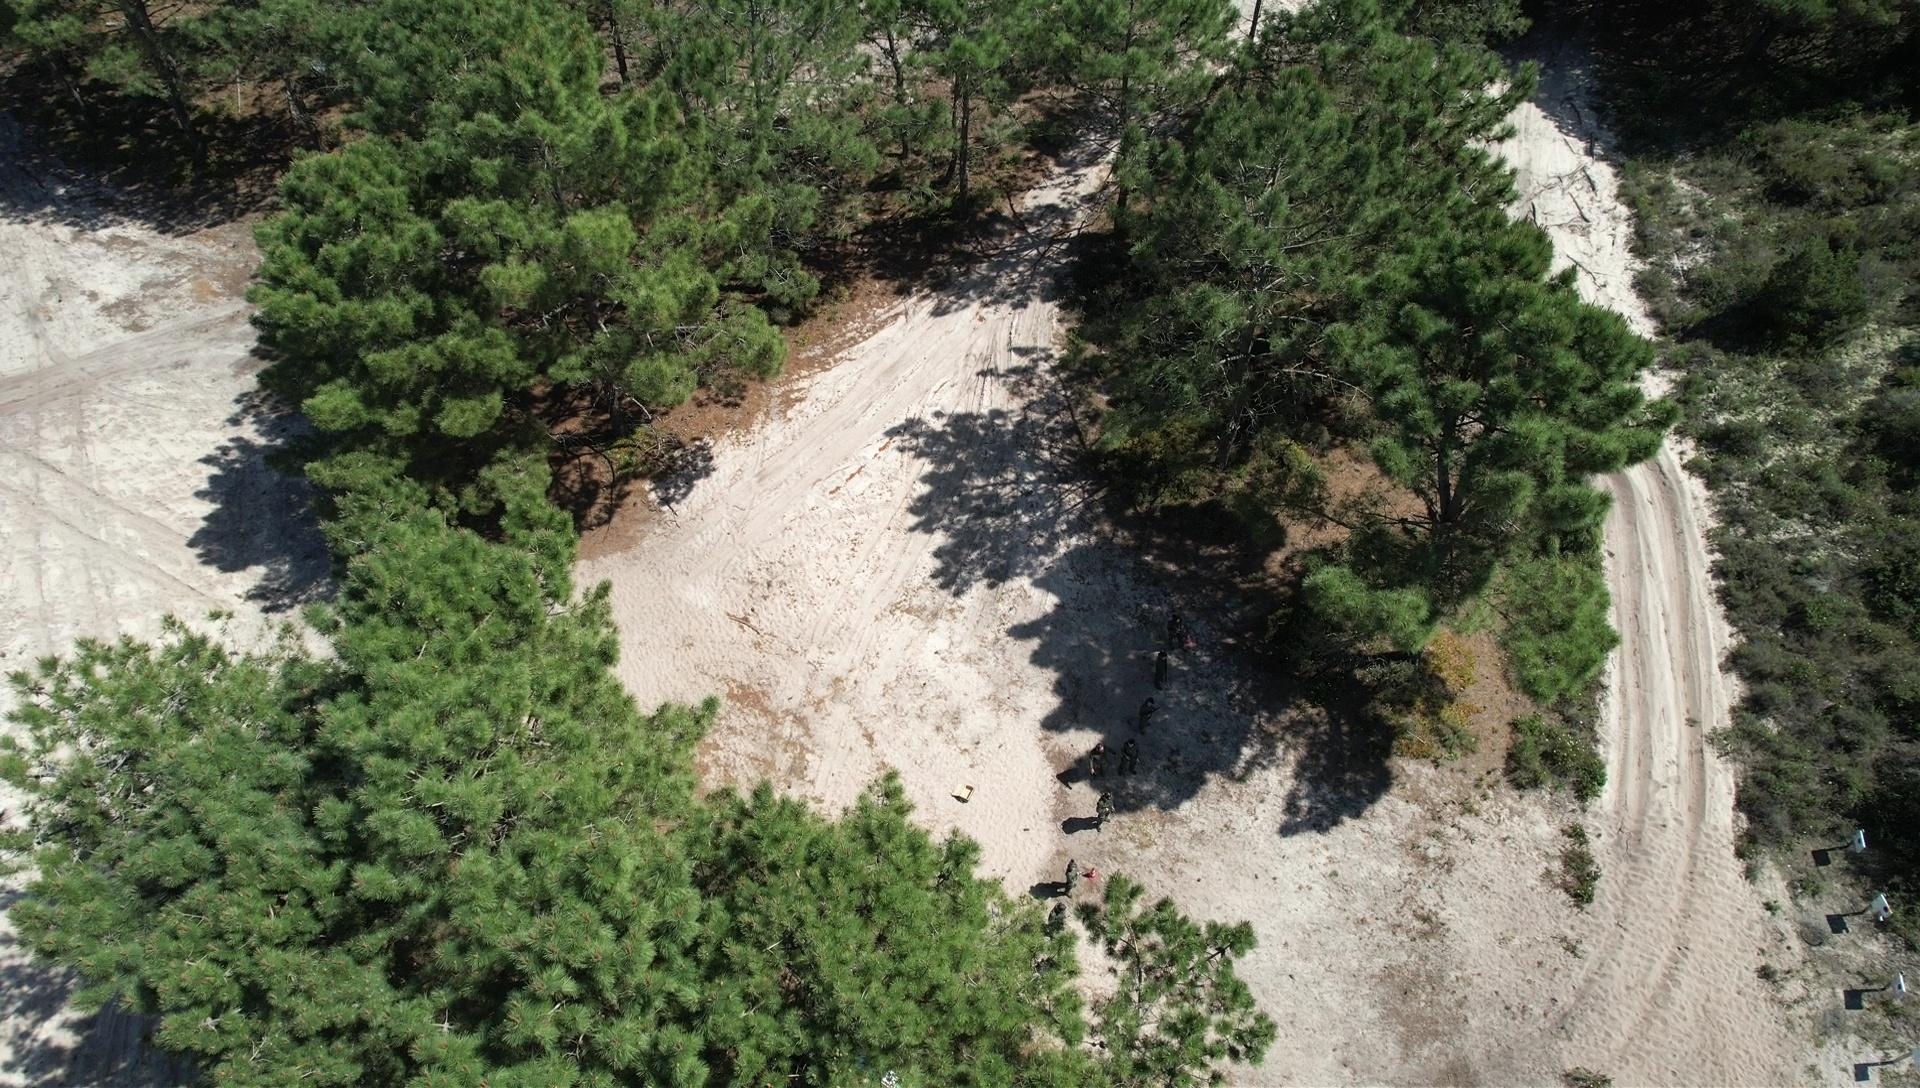Soldier: (1081, 727, 1116, 779), (1104, 735, 1139, 781), (1091, 785, 1120, 835), (1149, 645, 1176, 692), (1129, 699, 1156, 735), (1056, 862, 1079, 903)
